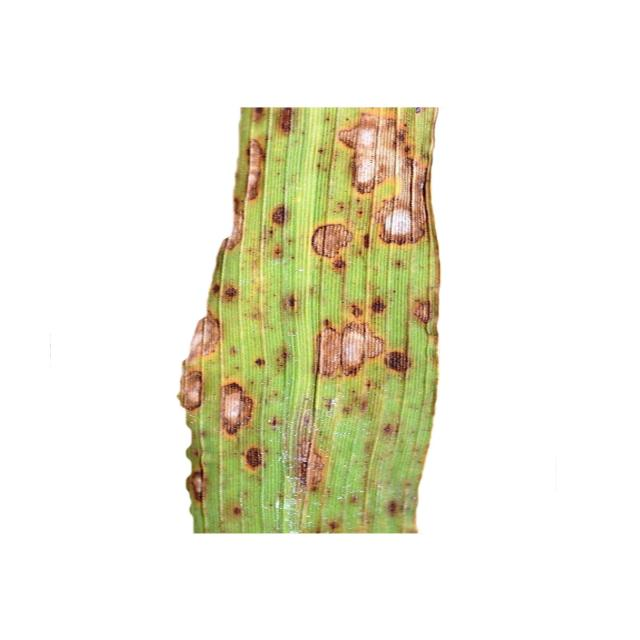Leaf blast: (164, 83, 454, 548)
